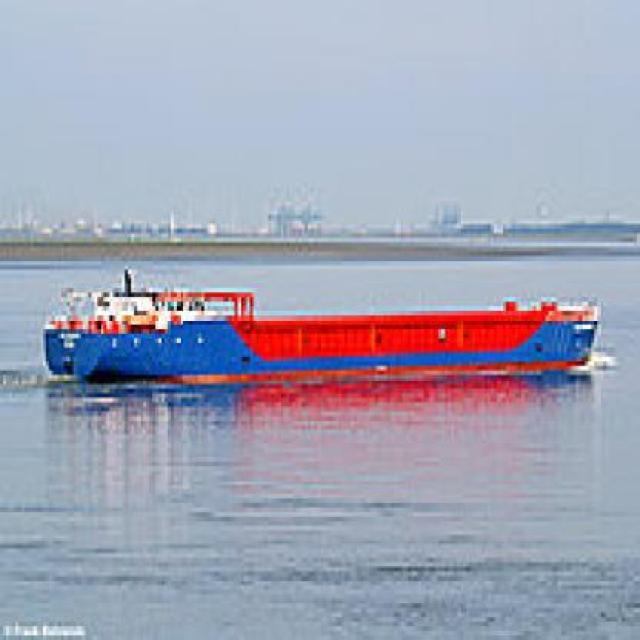container: (34, 257, 611, 413)
